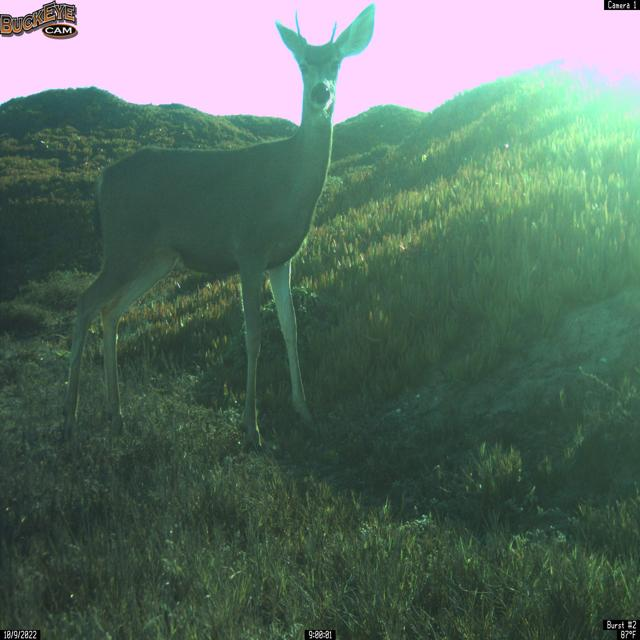deer: (59, 2, 376, 452)
